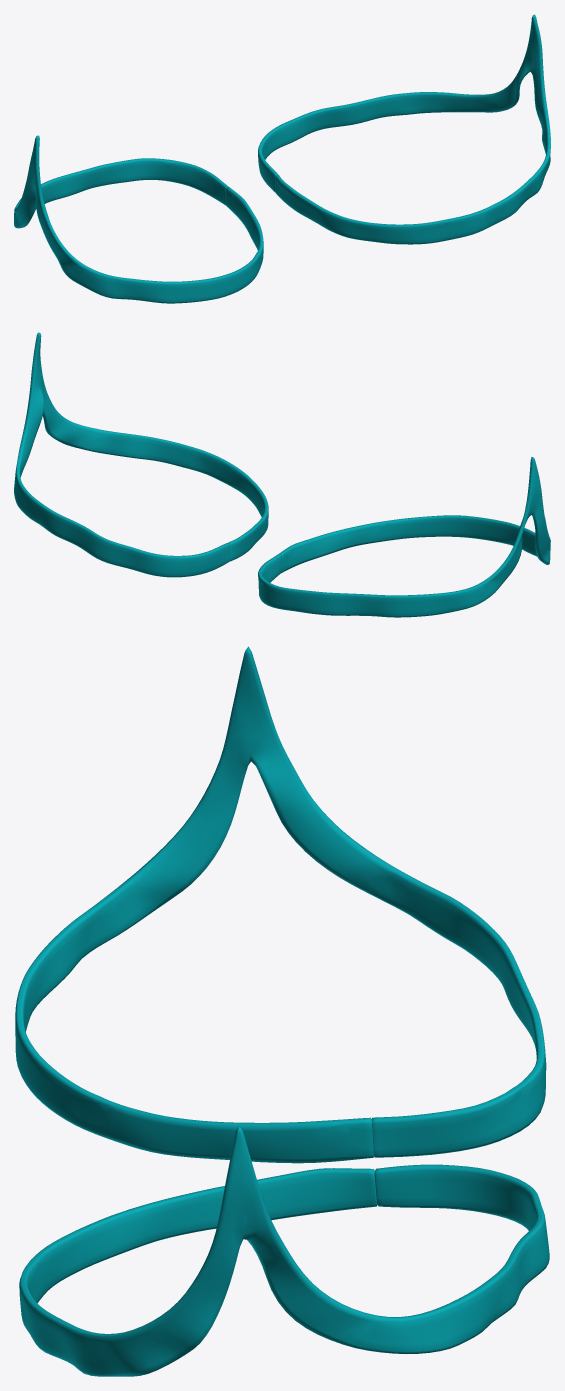
File: stitching-bottom_curve.glb
The picture shows the model from 3 angles, top to bottom: view 1: azimuth 30°, elevation 25°; view 2: azimuth 150°, elevation 25°; view 3: azimuth 270°, elevation 25°; orthographic projection. The views are drawn at different scales.
Parts seen in each view (by area): view 1: stitching-bottom_curve; view 2: stitching-bottom_curve; view 3: stitching-bottom_curve.
Boxes of the visible parts, x1,y1,x2,y2 form: stitching-bottom_curve: (14, 14, 550, 303); stitching-bottom_curve: (14, 332, 550, 617); stitching-bottom_curve: (15, 646, 549, 1376).
Bounding box in the file's own units: 2.12 × 0.6327 × 0.9729.
